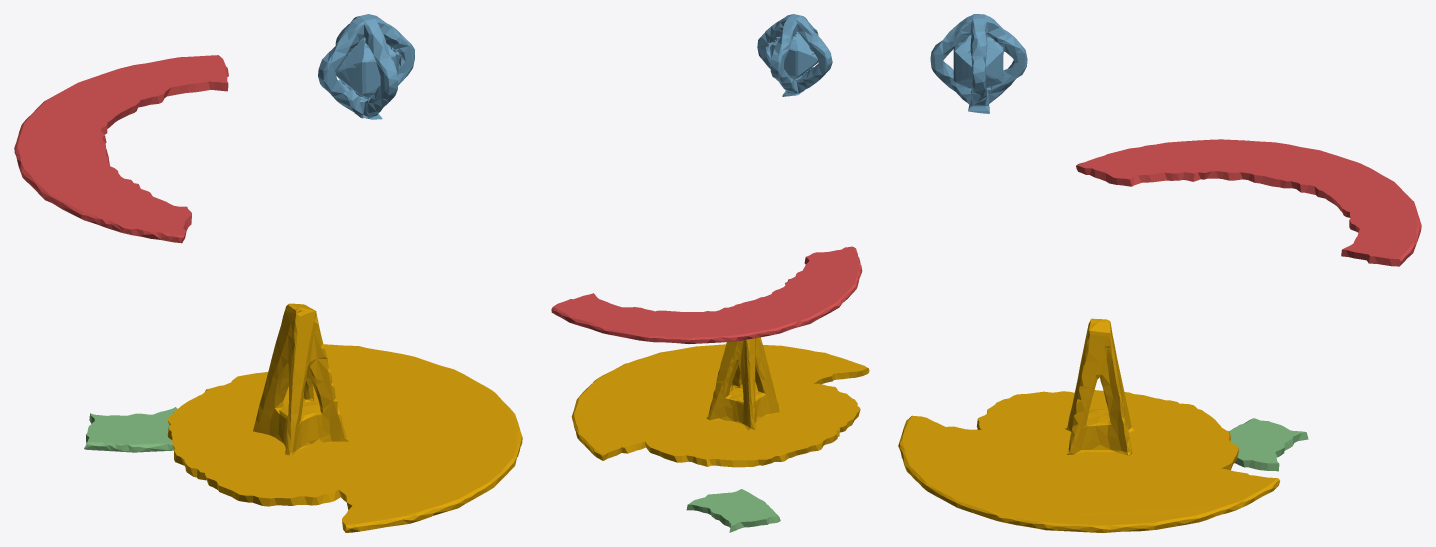
Rendered from fractured_62_4pcs_transformed.glb.
3 renders of one model, left to right at view 1: azimuth 30°, elevation 25°; view 2: azimuth 150°, elevation 25°; view 3: azimuth 270°, elevation 25°, orthographic. The views are drawn at different scales.
Parts seen in each view (by area): view 1: piece_0.obj, piece_1.obj, piece_2.obj, piece_3.obj; view 2: piece_0.obj, piece_1.obj, piece_2.obj, piece_3.obj; view 3: piece_0.obj, piece_1.obj, piece_2.obj, piece_3.obj.
Boxes of the visible parts, x1,y1,x2,y2 form: piece_0.obj: (167,303,522,532); piece_1.obj: (14,55,228,243); piece_2.obj: (318,14,414,119); piece_3.obj: (84,407,177,452); piece_0.obj: (571,337,869,467); piece_1.obj: (551,246,862,343); piece_2.obj: (757,14,832,96); piece_3.obj: (686,489,780,532); piece_0.obj: (898,318,1279,532); piece_1.obj: (1076,139,1421,266); piece_2.obj: (930,14,1027,113); piece_3.obj: (1229,418,1308,471).
Bounding box in the file's own units: 0.9998 × 1.28 × 1.3.
